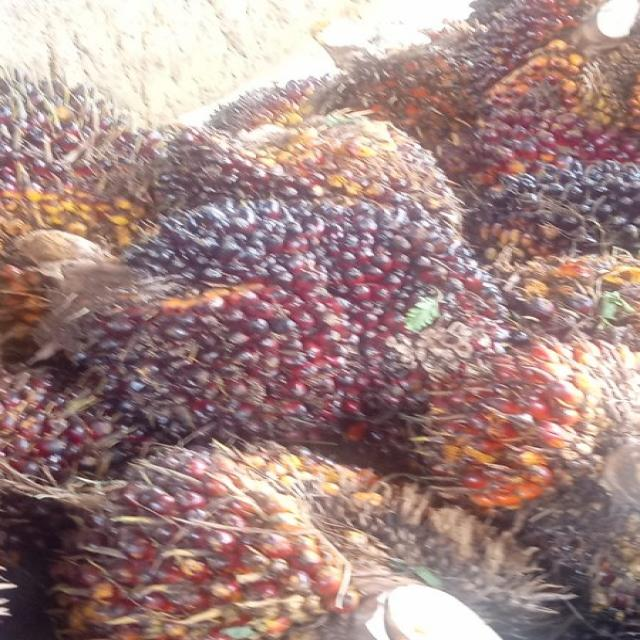fraksi 1: (41, 156, 556, 514)
